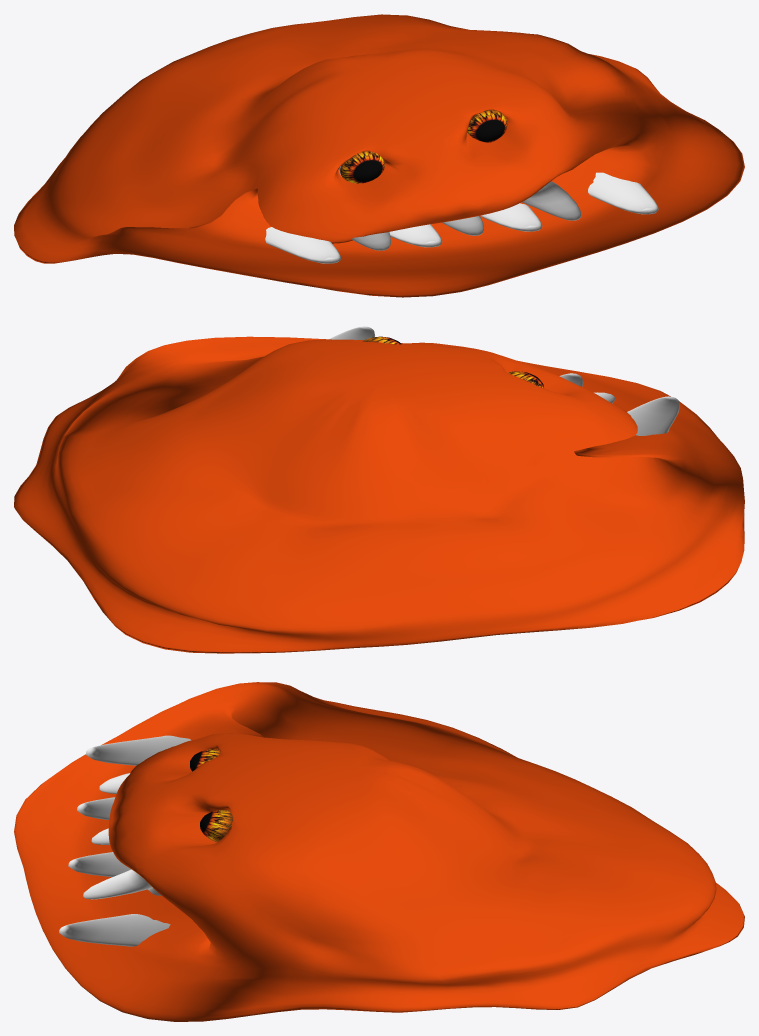
The model's file is enemy_unten5.fbx.
3 renders of one model, top to bottom at view 1: azimuth 30°, elevation 25°; view 2: azimuth 150°, elevation 25°; view 3: azimuth 270°, elevation 25°, orthographic. The views are drawn at different scales.
Visible parts, largest first — view 1: pSphere7; view 2: pSphere7; view 3: pSphere7.
Boxes of the visible parts, x1,y1,x2,y2 form: pSphere7: (14, 14, 744, 297); pSphere7: (14, 326, 744, 653); pSphere7: (14, 682, 744, 1021).
Bounding box in the file's own units: 5.26 × 1.01 × 4.9.
